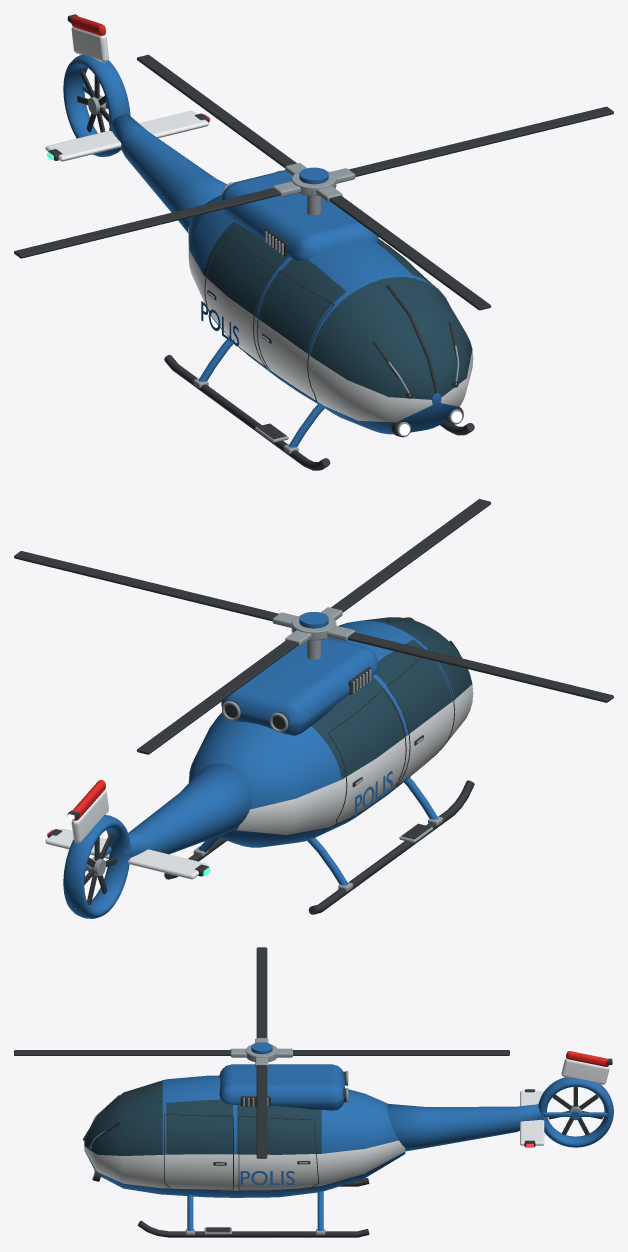
File: polishelikopter.glb
3 renders of one model, top to bottom at view 1: azimuth 30°, elevation 25°; view 2: azimuth 150°, elevation 25°; view 3: azimuth 270°, elevation 25°, orthographic. The views are drawn at different scales.
Parts seen in each view (by area): view 1: Glazed passenger fuselage, Turbine housing, Tapered tail boom, Shrouded tail rotor, Main blade.001, Main blade.003, Tailplane, Main blade.002, Main blade, Tubular landing skid, Tail fin; view 2: Glazed passenger fuselage, Turbine housing, Tapered tail boom, Shrouded tail rotor, Main blade.001, Main blade.003, Main blade, Main blade.002, Tailplane, Tubular landing skid, Tail fin; view 3: Glazed passenger fuselage, Tapered tail boom, Turbine housing, Shrouded tail rotor, Tubular landing skid.001, Main blade, Main blade.002, Main blade.003, Main blade.001, Tailplane, Tail fin, Cabin door seam.003.
Part boxes in pixels (<box>): Glazed passenger fuselage: <box>188,195,473,434</box>; Turbine housing: <box>221,170,378,261</box>; Tapered tail boom: <box>109,114,226,232</box>; Shrouded tail rotor: <box>63,54,130,156</box>; Main blade.001: <box>14,188,280,258</box>; Main blade.003: <box>349,106,613,176</box>; Tailplane: <box>45,110,208,161</box>; Main blade.002: <box>329,195,491,310</box>; Main blade: <box>137,54,296,168</box>; Tubular landing skid: <box>164,354,330,470</box>; Tail fin: <box>71,27,108,62</box>; Glazed passenger fuselage: <box>188,617,473,847</box>; Turbine housing: <box>221,638,378,735</box>; Tapered tail boom: <box>109,763,252,857</box>; Shrouded tail rotor: <box>63,815,130,918</box>; Main blade.001: <box>347,632,613,702</box>; Main blade.003: <box>14,551,278,621</box>; Main blade: <box>136,639,298,754</box>; Main blade.002: <box>331,499,491,612</box>; Tailplane: <box>45,828,208,879</box>; Tubular landing skid: <box>308,780,474,914</box>; Tail fin: <box>71,789,108,843</box>; Glazed passenger fuselage: <box>84,1075,405,1197</box>; Tapered tail boom: <box>387,1104,544,1151</box>; Turbine housing: <box>219,1064,344,1110</box>; Shrouded tail rotor: <box>538,1077,613,1147</box>; Tubular landing skid.001: <box>137,1220,369,1237</box>; Main blade: <box>293,1050,509,1055</box>; Main blade.002: <box>14,1050,230,1055</box>; Main blade.003: <box>256,1065,267,1158</box>; Main blade.001: <box>256,947,267,1037</box>; Tailplane: <box>520,1091,544,1145</box>; Tail fin: <box>561,1058,609,1084</box>; Cabin door seam.003: <box>238,1115,319,1190</box>.
Bounding box in the file's own units: 8.88 × 3.26 × 10.74.
